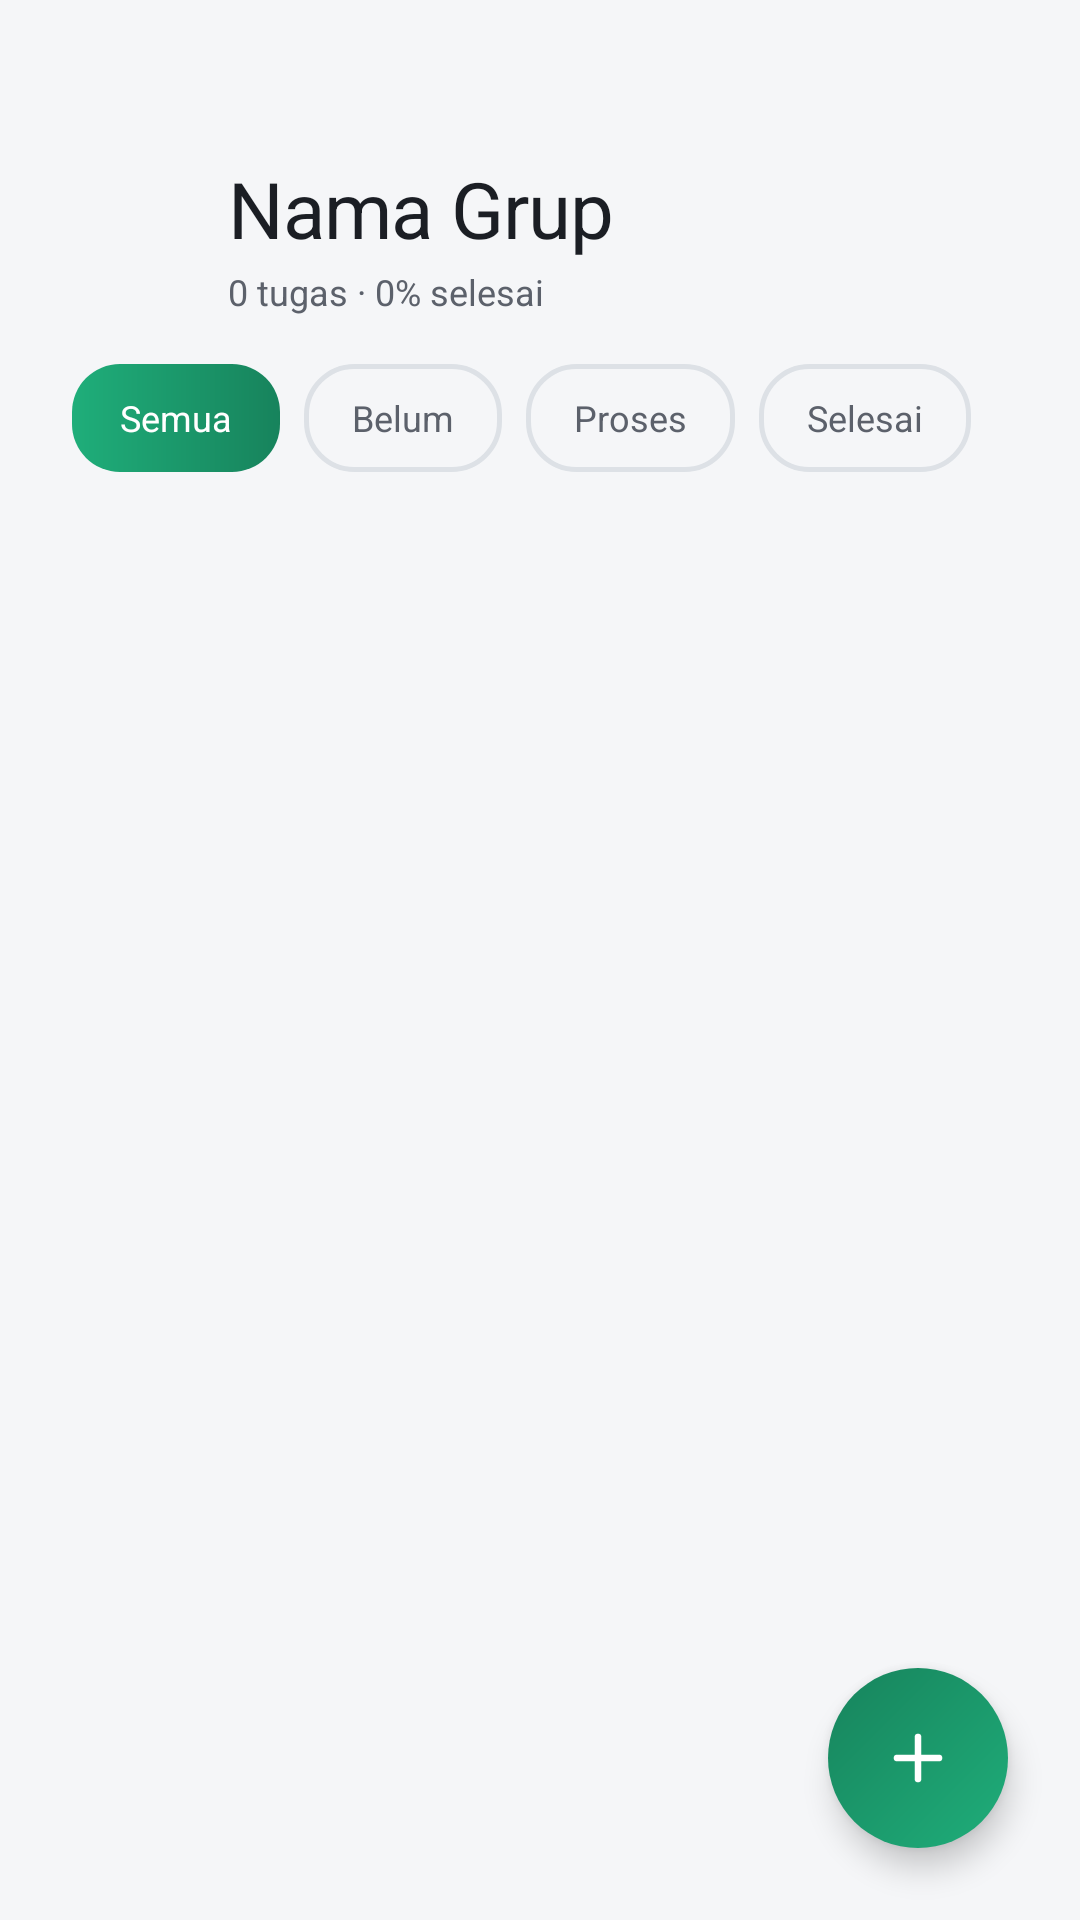

Screen size 1080px×1920px. Icon name, then its center in pixels as [x,y]:
Tambah tugas baru: [918,1758]
